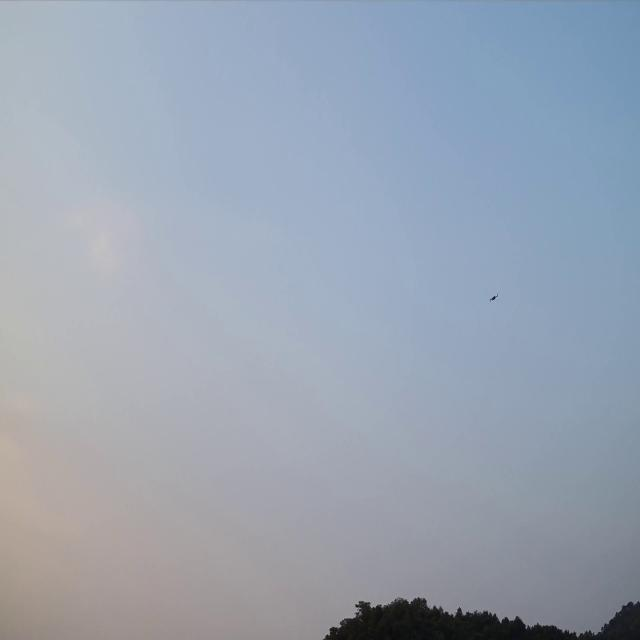UAV: (488, 292, 499, 301)
